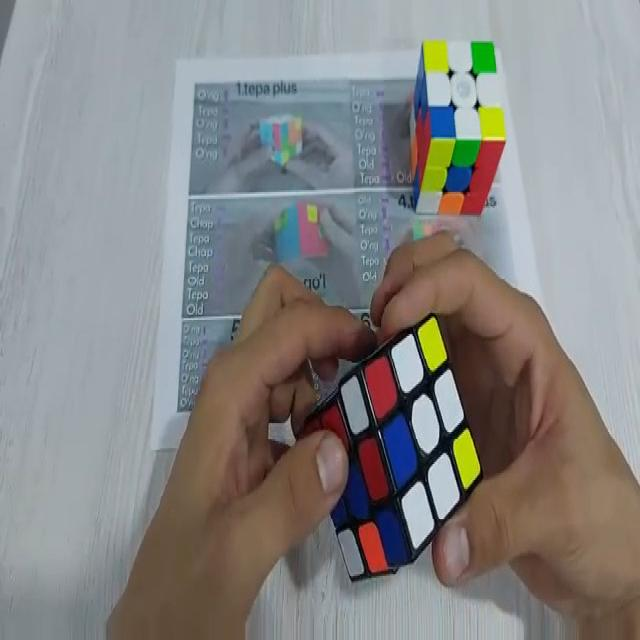Rub: (300, 310, 481, 577), (410, 38, 506, 222)
